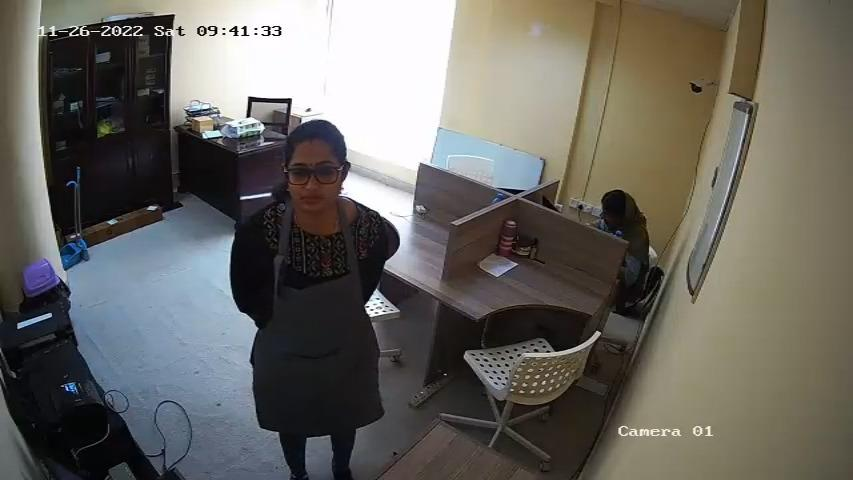apron: (256, 217, 376, 425)
